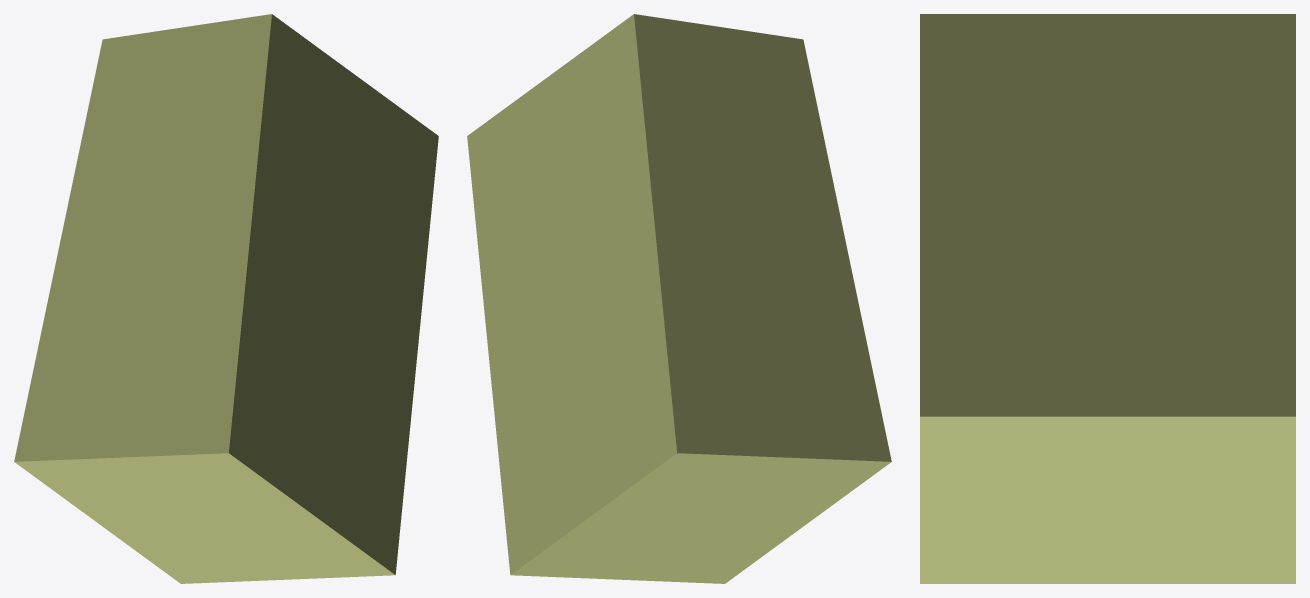
The picture shows the model from 3 angles, left to right: view 1: azimuth 30°, elevation 25°; view 2: azimuth 150°, elevation 25°; view 3: azimuth 270°, elevation 25°; orthographic projection. The views are drawn at different scales.
Visible parts, largest first — view 1: 0_1_2_0_1_1_0_0_3_0; view 2: 0_1_2_0_1_1_0_0_3_0; view 3: 0_1_2_0_1_1_0_0_3_0.
Boxes of the visible parts, x1,y1,x2,y2 form: 0_1_2_0_1_1_0_0_3_0: (14, 14, 438, 583); 0_1_2_0_1_1_0_0_3_0: (467, 14, 891, 583); 0_1_2_0_1_1_0_0_3_0: (920, 14, 1295, 583).
Size of the model in its own units: 5.35 by 8.82 by 6.
